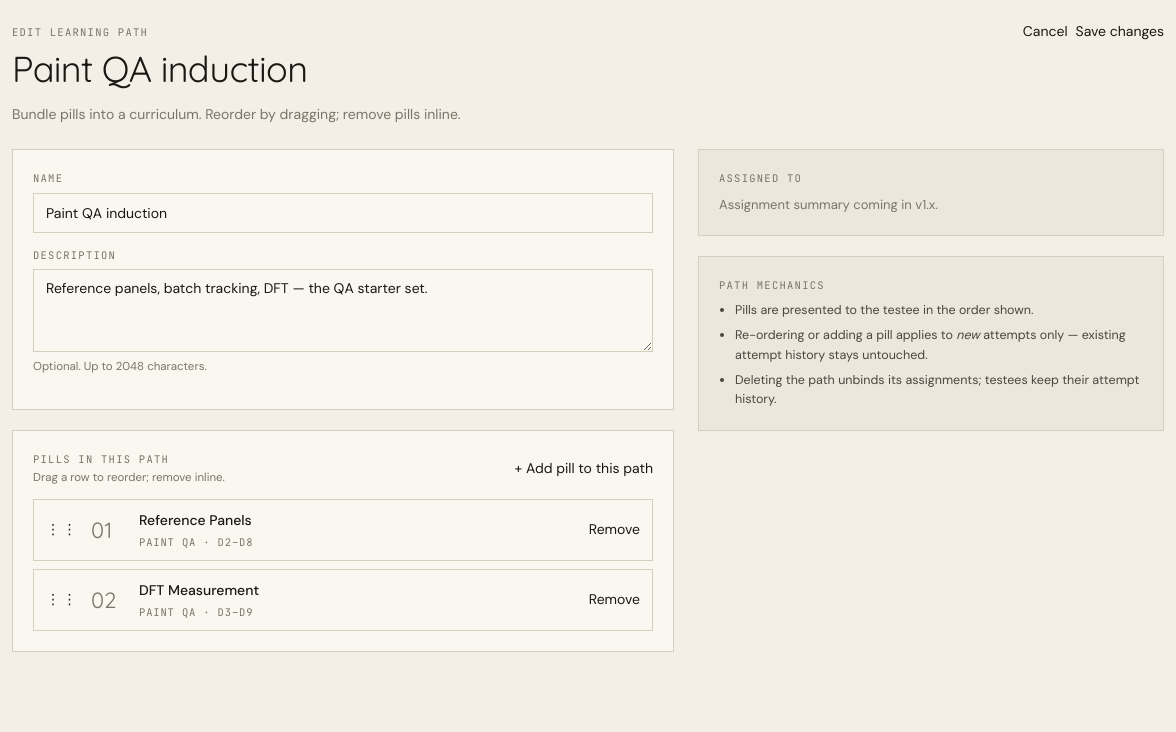
Test: path editor — edit mode › removes a pill row when 'Remove' is clicked
expect the list item with test id "path-editor-pill-row-1" is shown: met, box [33,499,653,561]
expect the list item with test id "path-editor-pill-row-2" is shown: met, box [33,569,653,631]
Click the button with test id "path-editor-remove-pill-1": click(614, 530) [589,512,640,548]
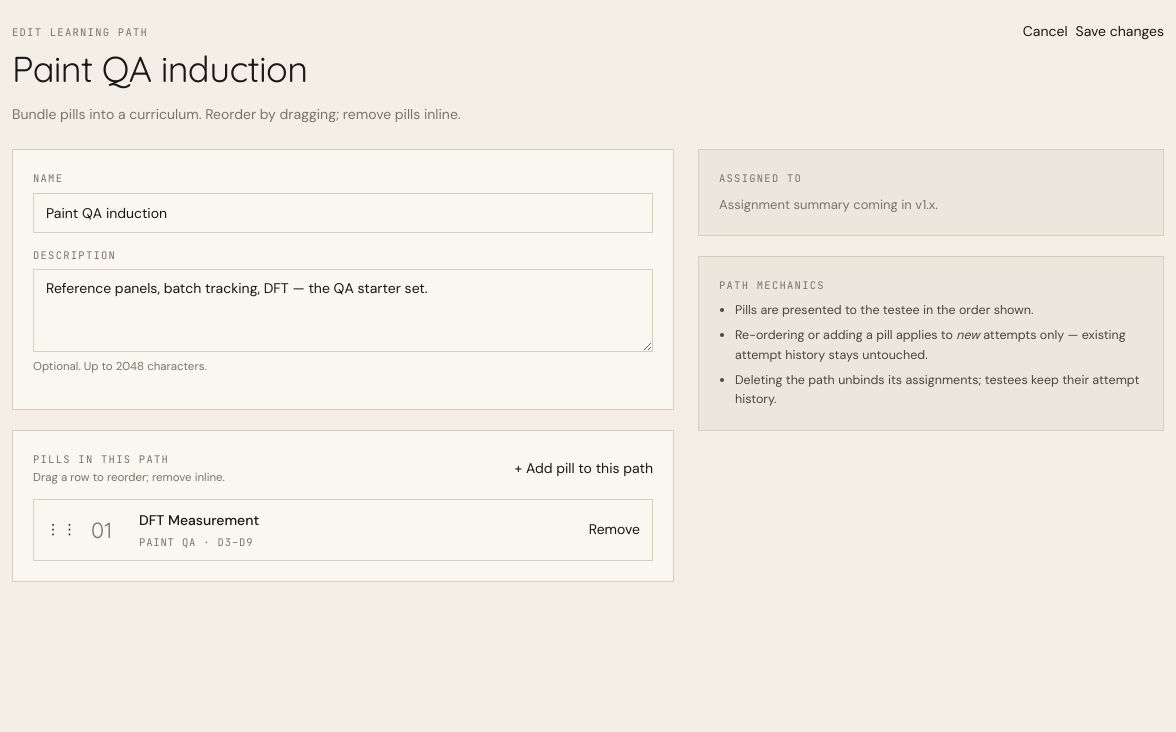
expect the list item with test id "path-editor-pill-row-1" is shown: met, box [33,499,653,561]
